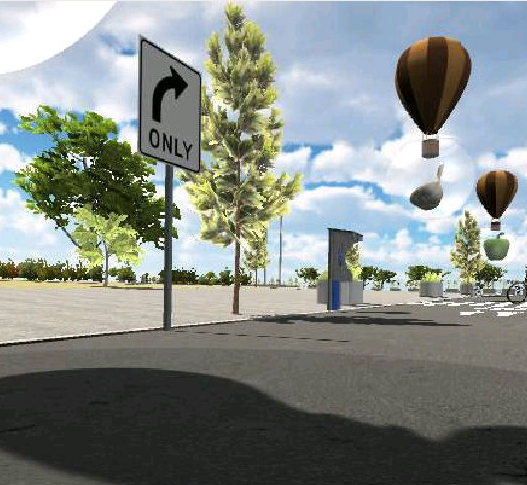arrow_right: (145, 66, 196, 123)
